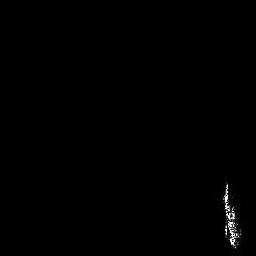ship: (221, 181, 243, 250)
